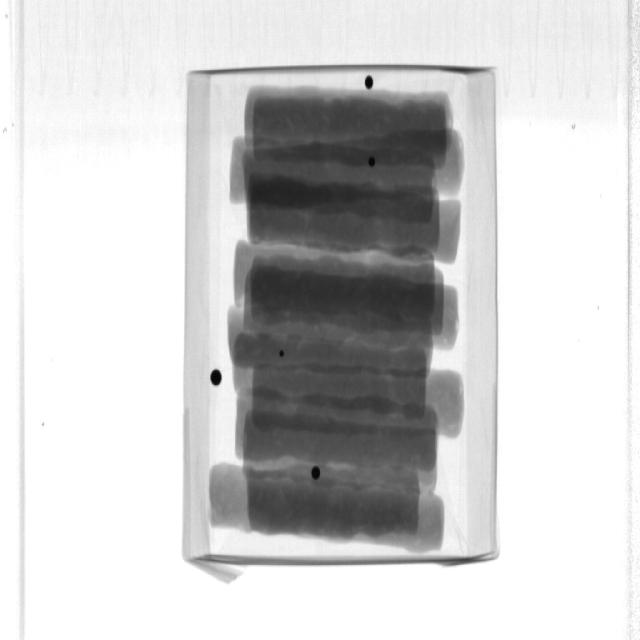ym: (212, 367, 224, 385), (365, 76, 375, 90), (312, 466, 321, 480), (368, 159, 376, 168), (280, 352, 286, 358)
